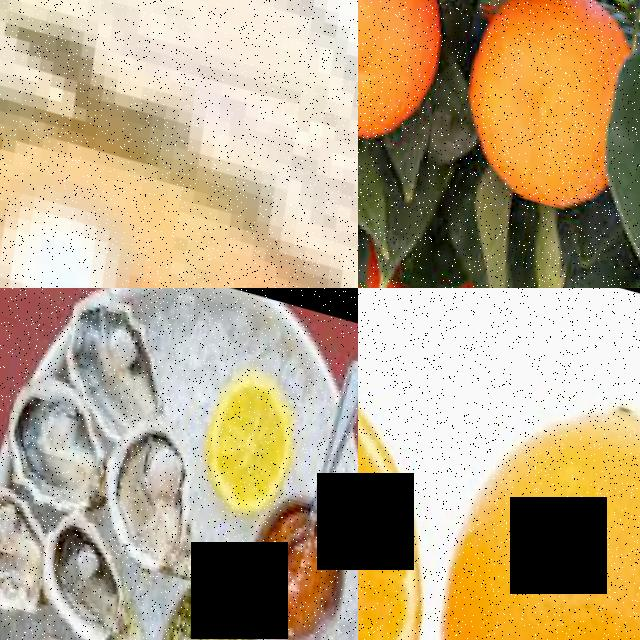lemon: (182, 355, 305, 516)
orange: (358, 353, 640, 640), (424, 0, 640, 215), (358, 309, 488, 640), (358, 0, 458, 149), (368, 269, 499, 288)
oysters: (79, 408, 211, 583), (16, 500, 152, 640), (45, 288, 179, 428), (0, 369, 124, 510), (0, 473, 54, 614)
